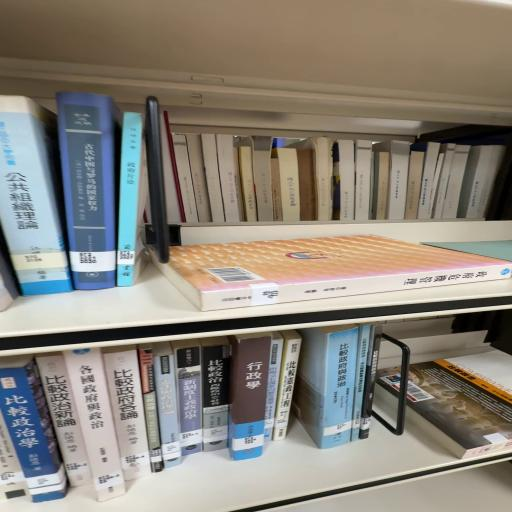flat: (156, 236, 512, 312), (378, 350, 512, 460)
